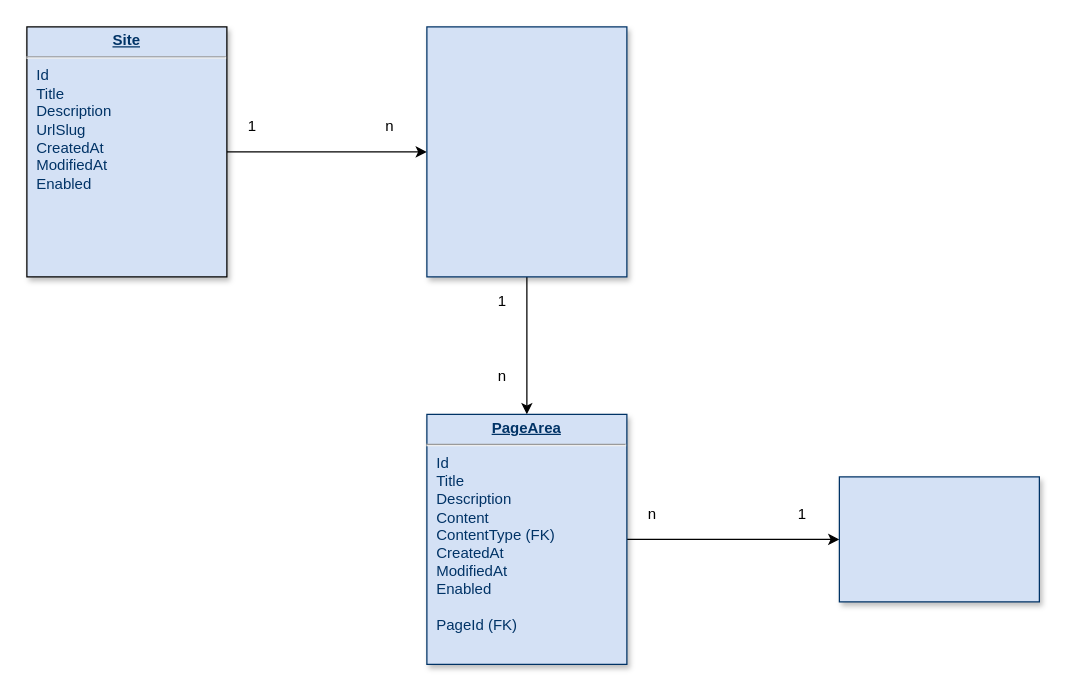
Some shapes in this 1069 by 695 pixel diagram are drawn without their labels. The shapes that lost their labels are listed below. From the top down, each one's centre as x and y in pixels, then its label:
(x=527, y=153): Page Id Title Description UrlSlug CreatedAt ModifiedAt Enabled SiteId (FK)
(x=940, y=541): ContentType Id Name Description
